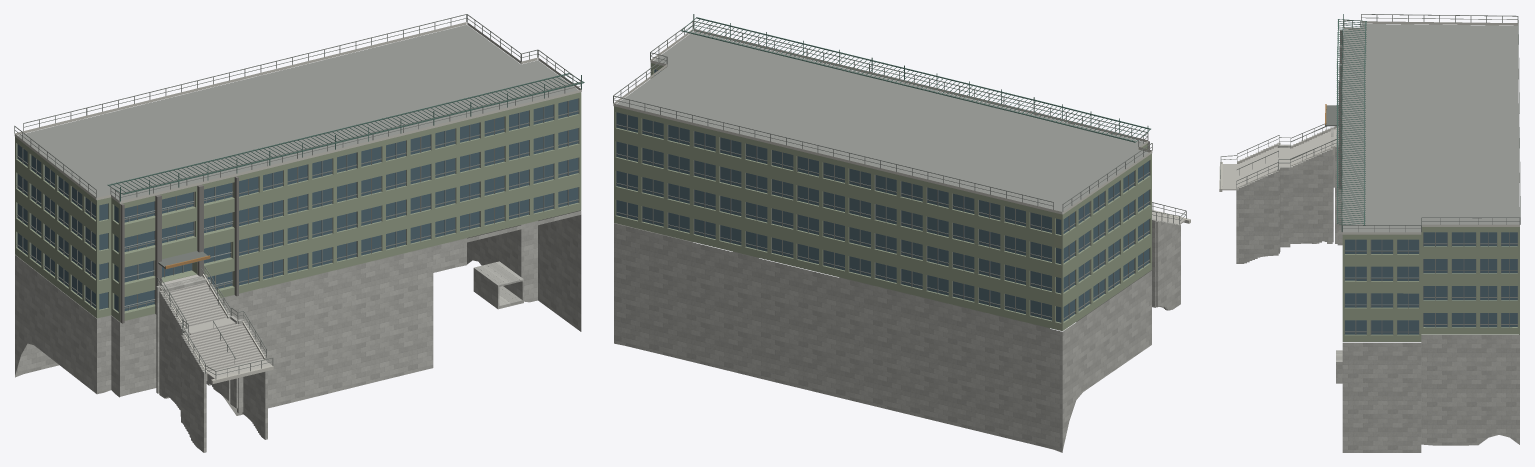
3 renders of one model, left to right at view 1: azimuth 30°, elevation 25°; view 2: azimuth 150°, elevation 25°; view 3: azimuth 270°, elevation 25°, orthographic. The views are drawn at different scales.
Parts seen in each view (by area): view 1: foundation__lecture_a, lecture_a__roof, lecture_a__wall, lecture_a__glass, lecture_a__frame, lecture_a__trim, lecture_a__steps, lecture_a__roofScreen, lecture_a__pier, lecture_a__landing, lecture_a__sash; view 2: foundation__lecture_a, lecture_a__roof, lecture_a__wall, lecture_a__glass, lecture_a__frame, lecture_a__roofScreen, lecture_a__trim; view 3: lecture_a__roof, foundation__lecture_a, lecture_a__wall, lecture_a__glass, lecture_a__frame, lecture_a__roofScreen, lecture_a__steps, lecture_a__trim, lecture_a__landing, lecture_a__pier.
Boxes of the visible parts, box(x1,y1,x2,y2) form: foundation__lecture_a: box(15, 210, 581, 452); lecture_a__roof: box(17, 25, 578, 203); lecture_a__wall: box(15, 92, 581, 321); lecture_a__glass: box(17, 98, 578, 311); lecture_a__frame: box(14, 14, 580, 379); lecture_a__trim: box(14, 22, 581, 383); lecture_a__steps: box(162, 277, 263, 372); lecture_a__roofScreen: box(107, 73, 584, 201); lecture_a__pier: box(120, 176, 238, 323); lecture_a__landing: box(186, 318, 271, 378); lecture_a__sash: box(124, 183, 233, 310); foundation__lecture_a: box(614, 218, 1180, 452); lecture_a__roof: box(616, 31, 1148, 214); lecture_a__wall: box(614, 63, 1151, 330); lecture_a__glass: box(616, 69, 1149, 322); lecture_a__frame: box(613, 21, 1186, 319); lecture_a__roofScreen: box(681, 14, 1150, 142); lecture_a__trim: box(613, 29, 1190, 223); lecture_a__roof: box(1342, 24, 1519, 232); foundation__lecture_a: box(1236, 127, 1519, 452); lecture_a__wall: box(1342, 227, 1519, 341); lecture_a__glass: box(1345, 232, 1517, 334); lecture_a__frame: box(1220, 14, 1520, 334); lecture_a__roofScreen: box(1336, 14, 1366, 231); lecture_a__steps: box(1236, 128, 1336, 187); lecture_a__trim: box(1219, 21, 1519, 234); lecture_a__landing: box(1220, 147, 1290, 190); lecture_a__pier: box(1338, 30, 1343, 188).
Size of the model in its own units: 60.59 by 31.5 by 36.55.
Materials: 13 (1 with a texture image).
